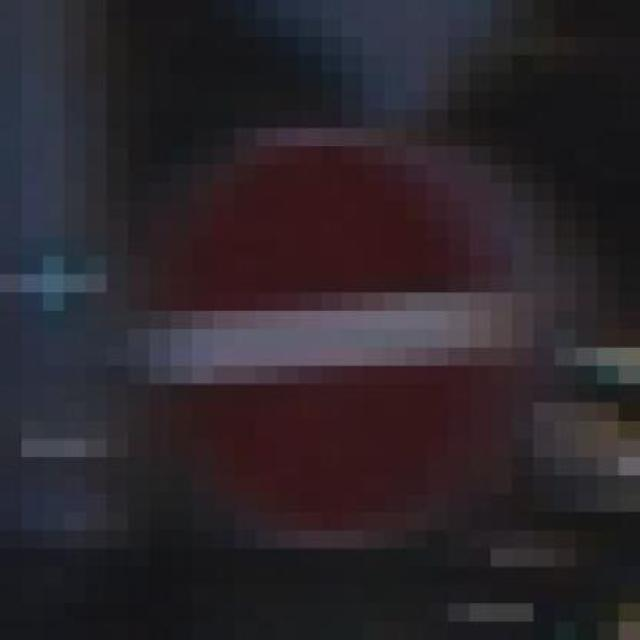No Entry: (107, 128, 598, 586)
